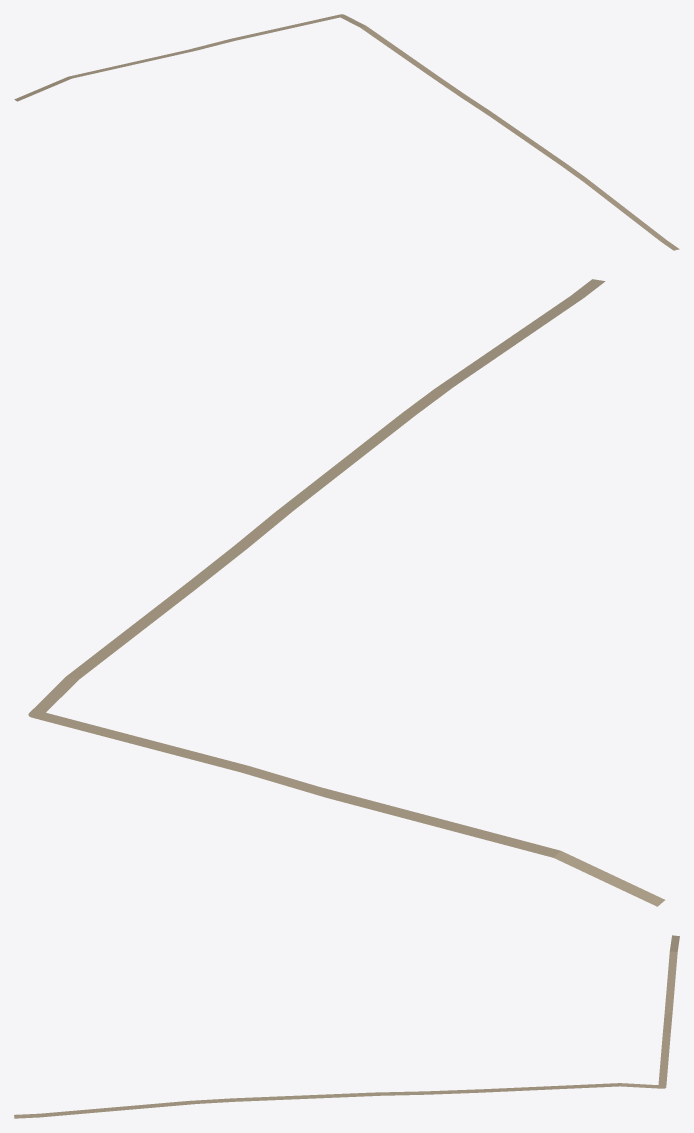
File: farm_13_17_track.glb
3 views of the same model, one above another, from view 1: azimuth 30°, elevation 25°; view 2: azimuth 150°, elevation 25°; view 3: azimuth 270°, elevation 25° (orthographic). The views are drawn at different scales.
Visible parts, largest first — view 1: geometry_0; view 2: geometry_0; view 3: geometry_0.
Part boxes in pixels (x1,y1,x2,y2): geometry_0: [14, 14, 679, 250]; geometry_0: [28, 279, 664, 906]; geometry_0: [14, 935, 679, 1118].
Size of the model in its own units: 175 by 8.85 by 275.
